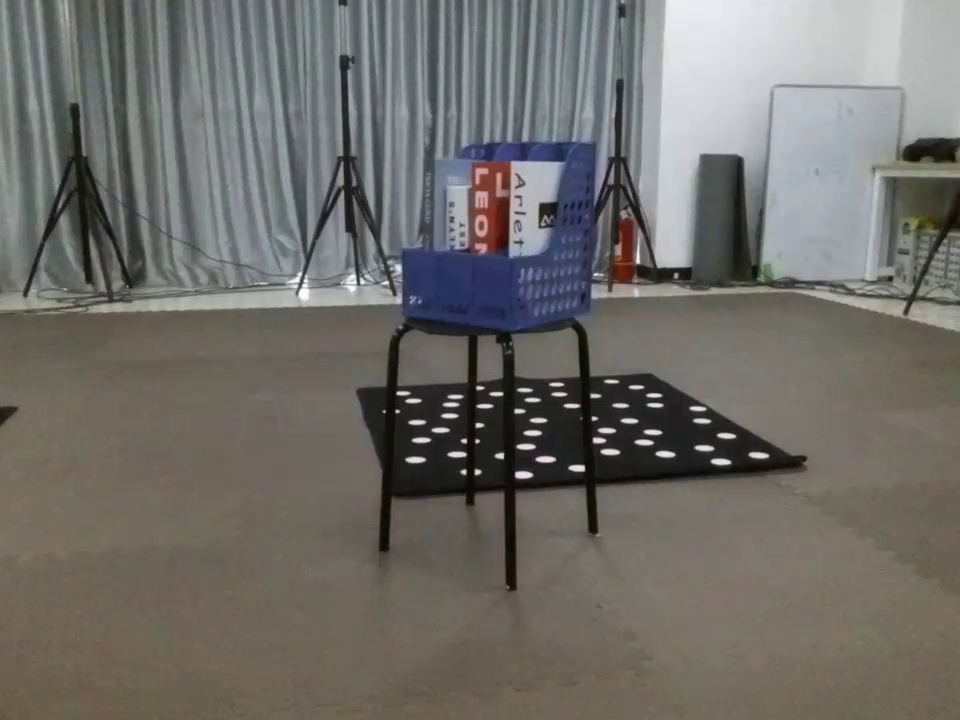files: (399, 135, 600, 332)
